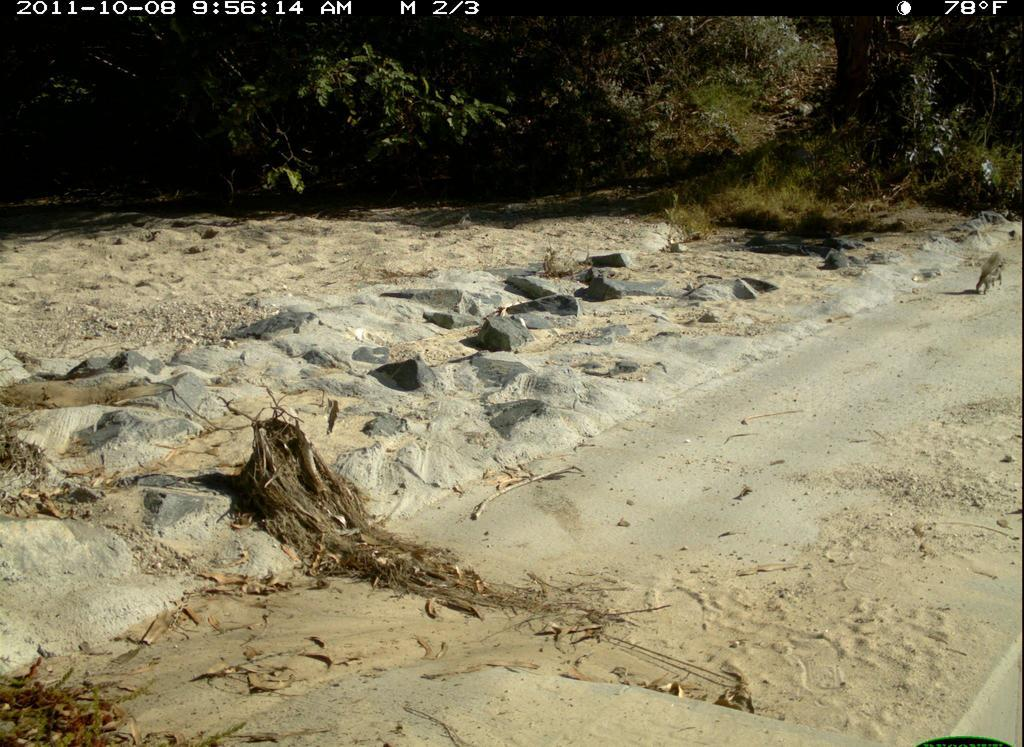squirrel: (967, 241, 1010, 319)
